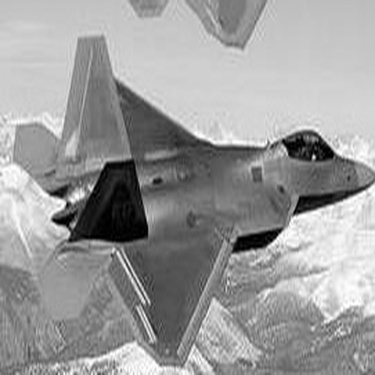airplane: (11, 29, 356, 362)
